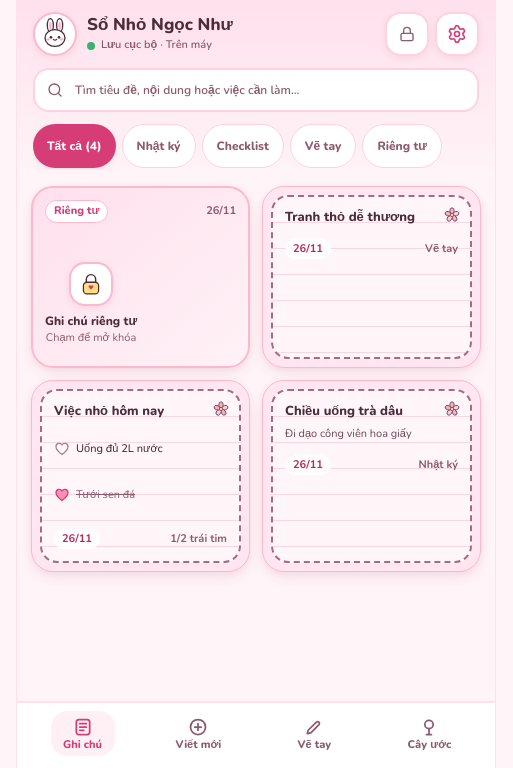
HomeScreen & NoteCard integration › hiển thị ghi chú, ẩn ghi chú đã xóa mềm, lọc 5 danh mục, tìm kiếm & không lộ thẻ khóa
Expected: the text "Chiều uống trà dâu" is shown, [285,402,403,420]
Expected: the text "Việc nhỏ hôm nay" is shown, [54,402,164,420]
// Tick checklist trực tiếp trên thẻ ở Trang Chủ
Click the button "Uống đủ 2L nước" at (136,449), box [50,427,223,471]
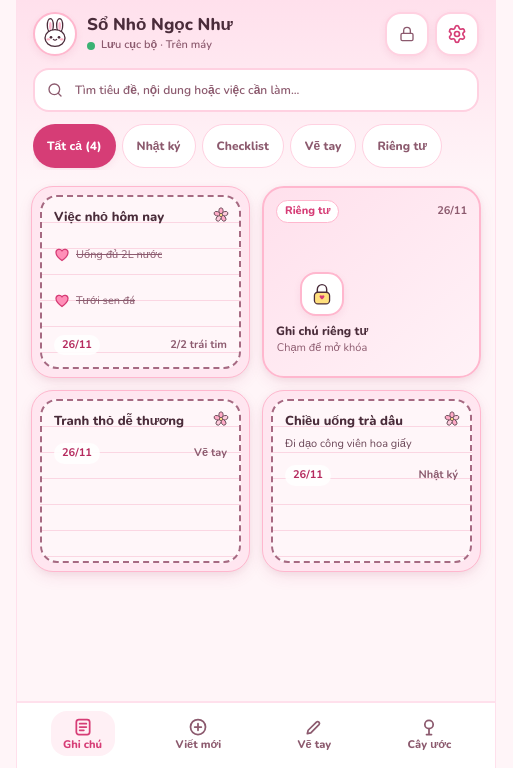
Now the text "2/2 trái tim" is shown, box [170,337,227,353]
// Lọc danh mục
Click the tab "Vẽ tay" at (323,146), box [290,124,356,168]
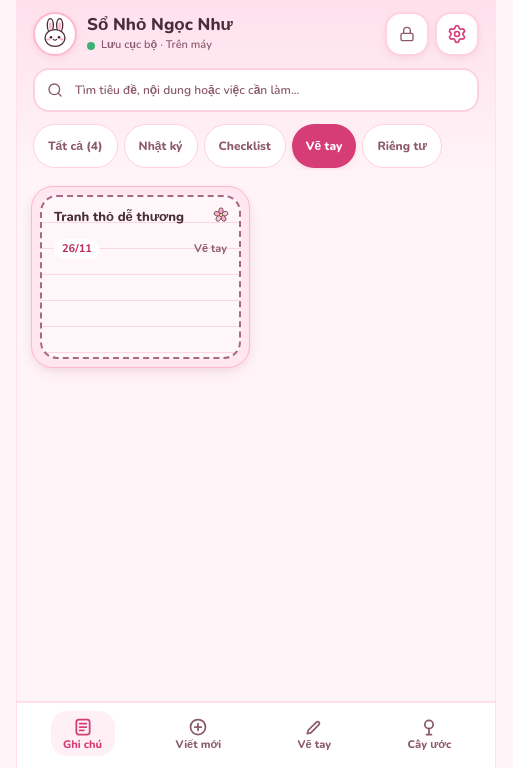
Expected: the text "Tranh thỏ dễ thương" is shown, [54,208,184,226]
Now the button "Chiều uống trà dâu" is gone
Click the tab "Riêng tư" at (402,146), box [362,124,442,168]
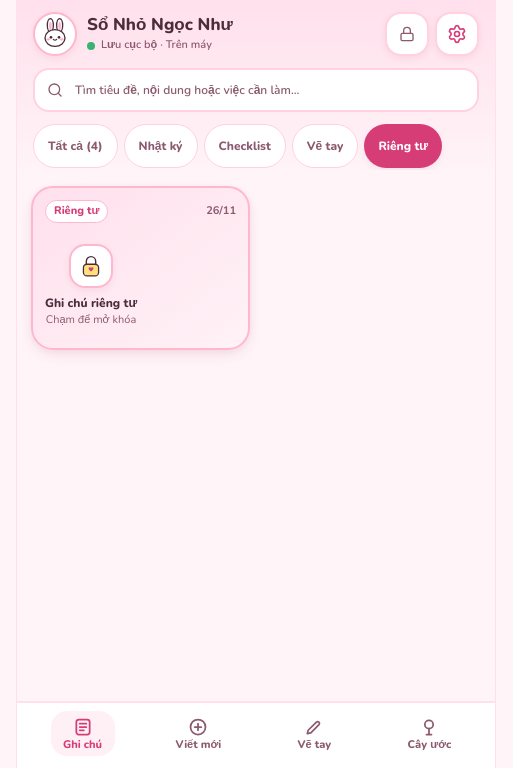
Now the text "Ghi chú riêng tư" is shown, box [45,294,137,312]
Now the button "Tranh thỏ dễ thương" is gone
// Quay về Tất cả & Tìm kiếm
Click the tab "Tất cả (4)" at (75,146), box [33,124,118,168]
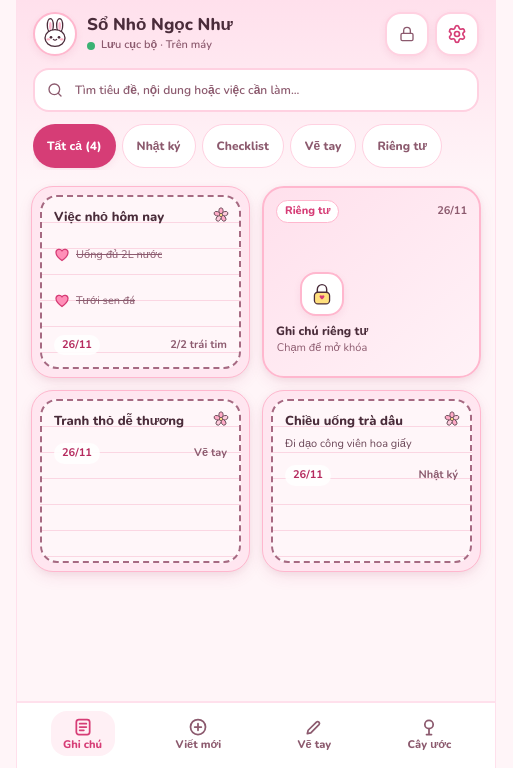
Type "hoa giay" into the search field named "Tìm kiếm ghi chú" at (256,90), box [33,68,479,112]
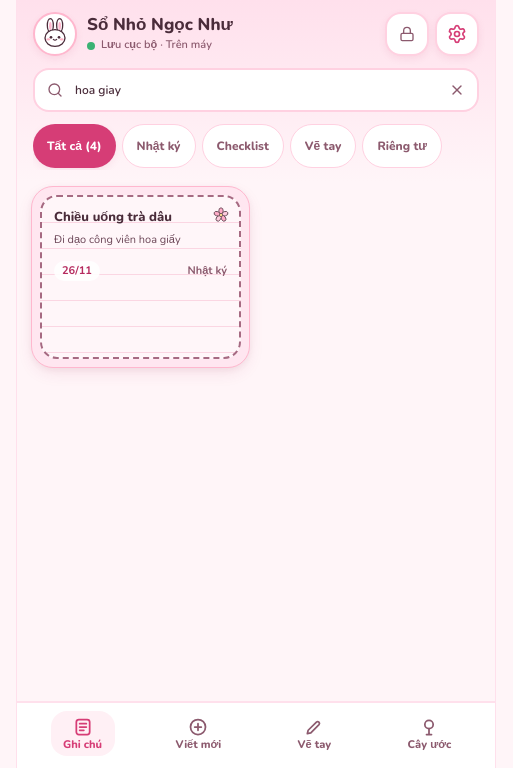
Now the text "Chiều uống trà dâu" is shown, box [54,208,172,226]
Now the button "Ghi chú riêng tư" is gone
